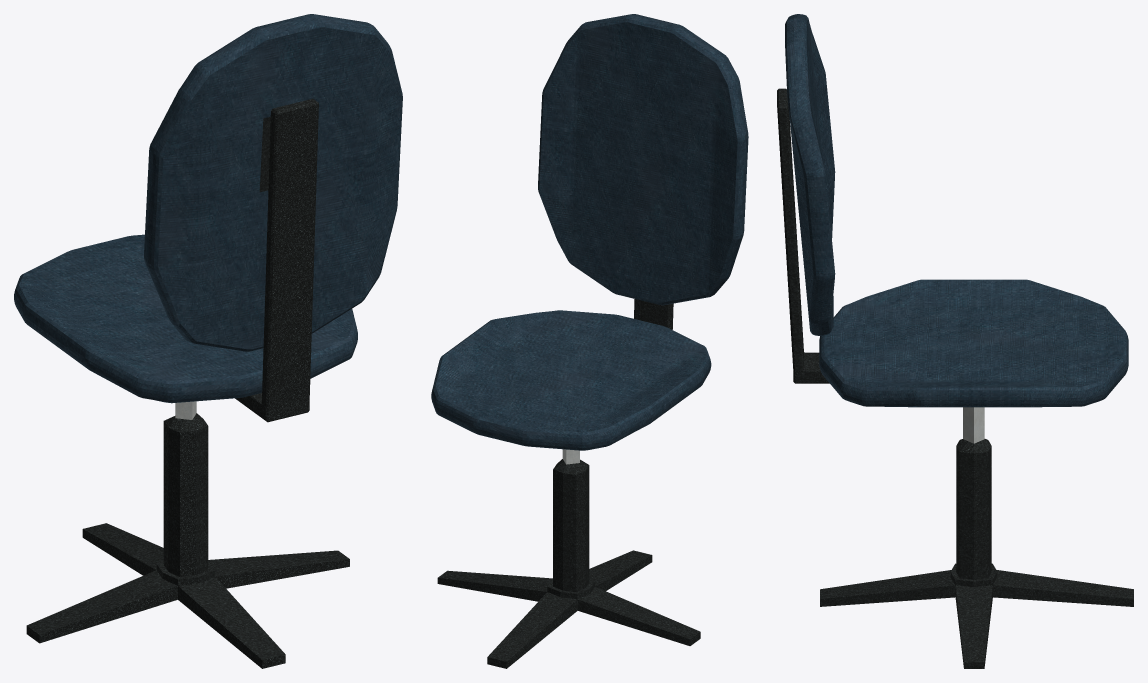
The model's file is desktop_chair_01.glb.
The picture shows the model from 3 angles, left to right: view 1: azimuth 30°, elevation 25°; view 2: azimuth 150°, elevation 25°; view 3: azimuth 270°, elevation 25°; orthographic projection. The views are drawn at different scales.
Parts seen in each view (by area): view 1: asiento.002, asiento.001, sosten, patas, asiento; view 2: asiento.002, asiento.001, patas, asiento, sosten; view 3: asiento.001, asiento.002, patas, asiento, sosten.
Boxes of the visible parts, x1,y1,x2,y2 form: asiento.002: [144, 14, 402, 351]; asiento.001: [14, 234, 357, 403]; sosten: [235, 98, 318, 422]; patas: [26, 523, 349, 668]; asiento: [156, 401, 215, 585]; asiento.002: [538, 14, 748, 305]; asiento.001: [431, 310, 711, 450]; patas: [437, 550, 700, 668]; asiento: [547, 449, 595, 599]; sosten: [634, 299, 673, 329]; asiento.001: [819, 279, 1128, 407]; asiento.002: [785, 14, 835, 335]; patas: [820, 570, 1133, 668]; asiento: [950, 407, 997, 586]; sosten: [777, 88, 829, 383].
Bounding box in the file's own units: 0.4529 × 0.9095 × 0.5142.
5 materials, 5 textured.
